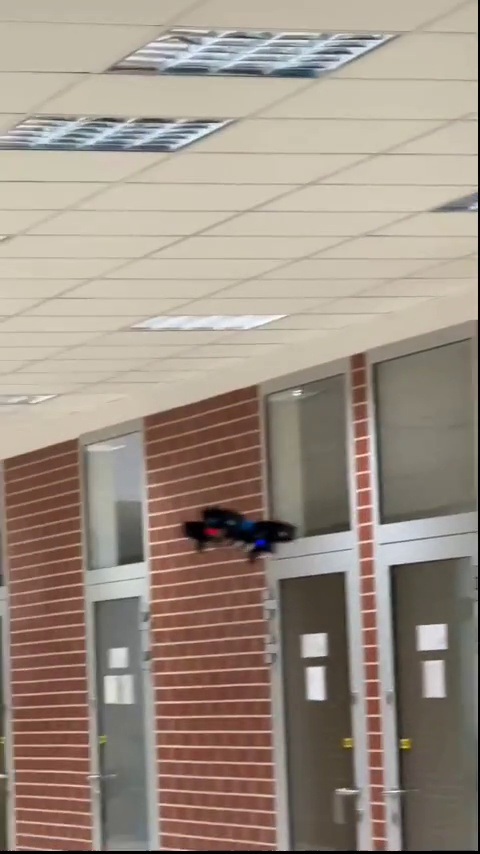drone: (184, 507, 298, 564)
